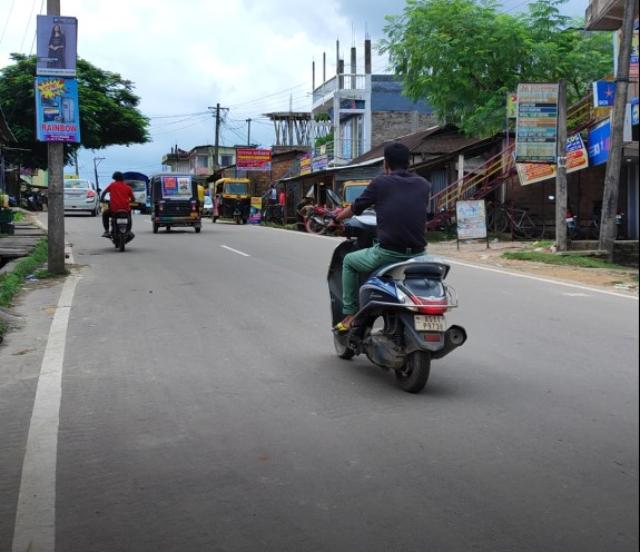licensePlate: (412, 315, 449, 331), (116, 216, 131, 225)
motorcycle: (327, 137, 468, 395), (100, 167, 137, 254)
withoutHelmet: (381, 144, 414, 175), (112, 171, 123, 182)
